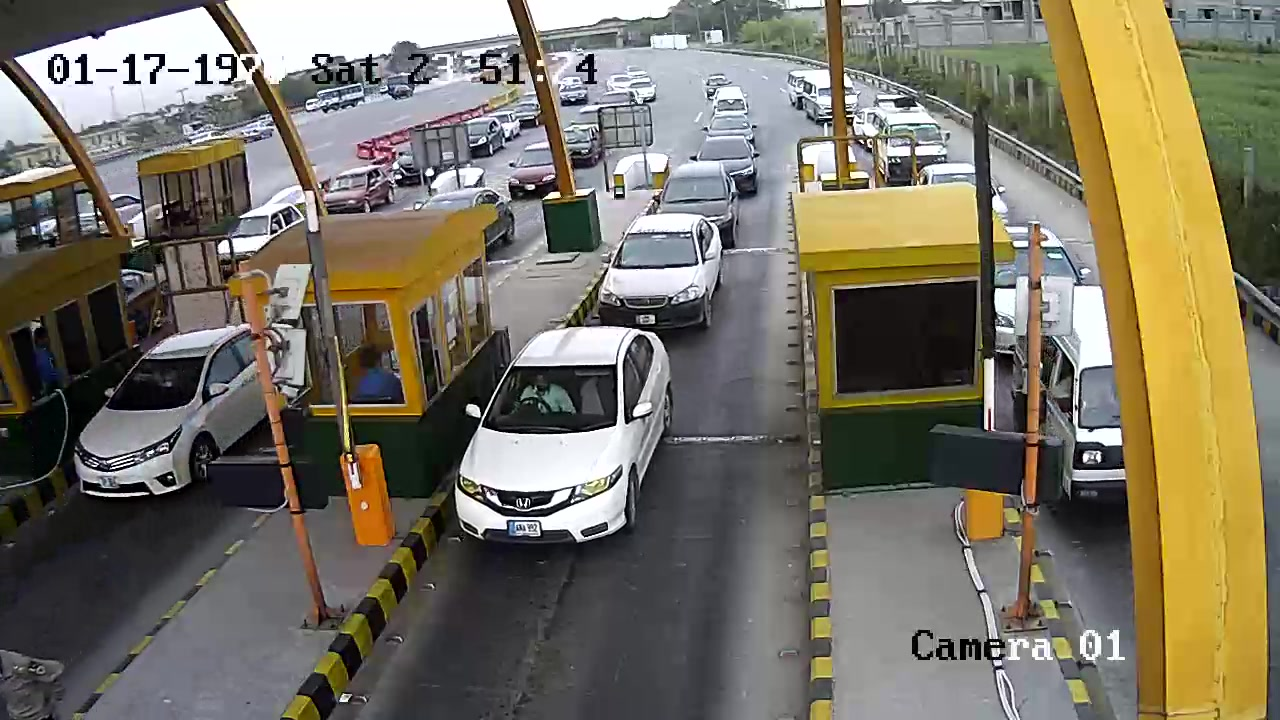F1: (443, 327, 700, 565)
